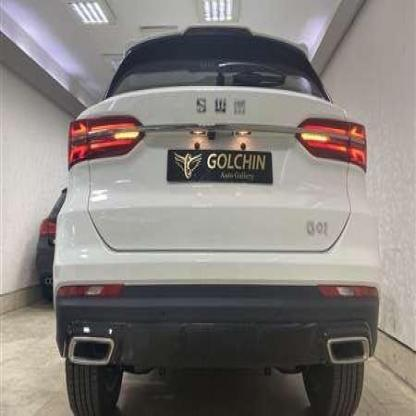Car: (57, 36, 382, 416), (32, 183, 90, 283)
